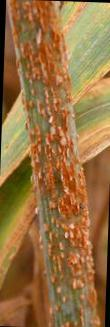Corn: (9, 9, 94, 313)
